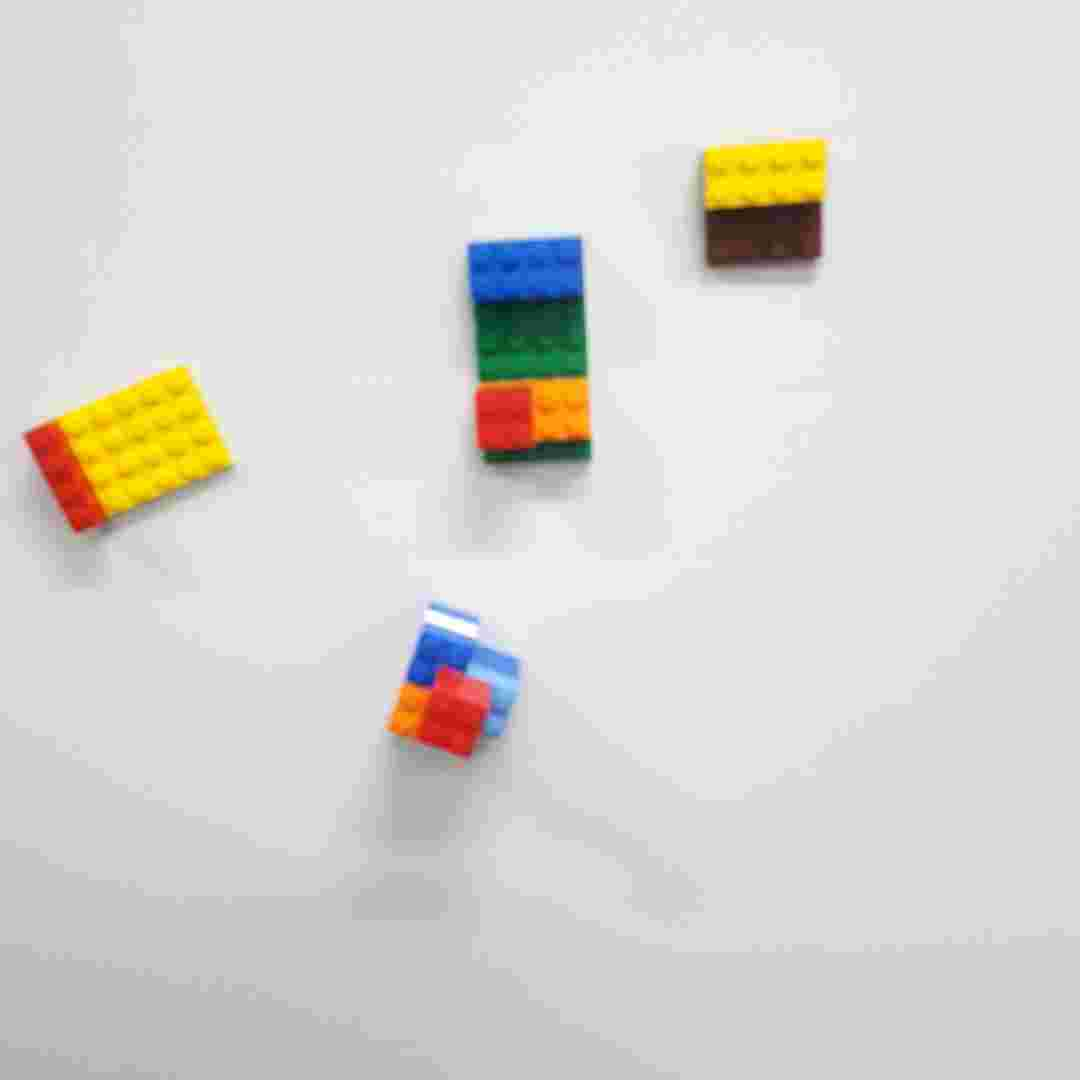LEGO: (12, 356, 240, 543), (462, 229, 601, 473), (382, 598, 535, 775), (694, 134, 831, 266)
